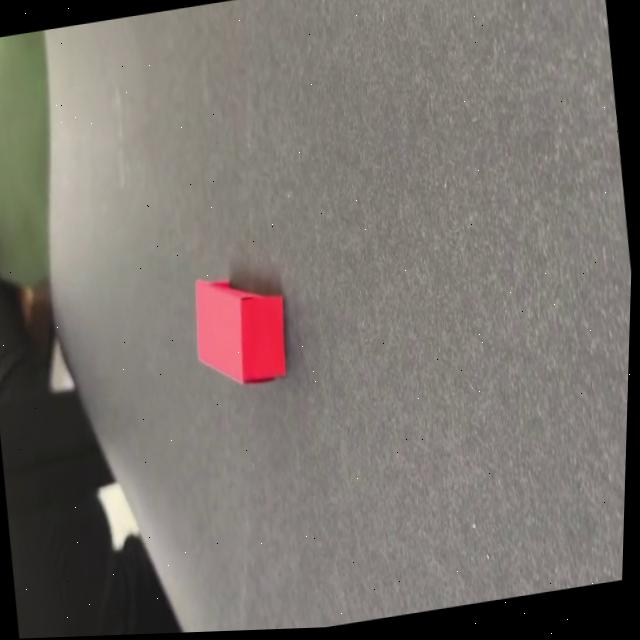red block: (185, 266, 293, 396)
